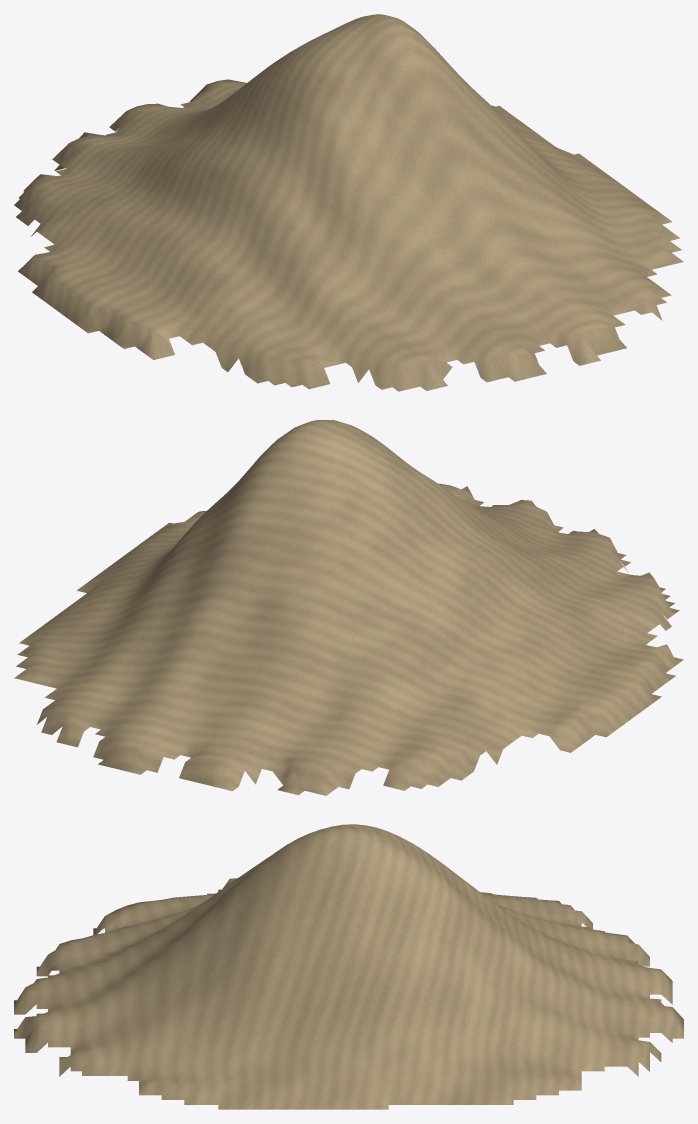
The model's file is border_dune_c_v5_autumn.glb.
3 views of the same model, one above another, from view 1: azimuth 30°, elevation 25°; view 2: azimuth 150°, elevation 25°; view 3: azimuth 270°, elevation 25° (orthographic). The views are drawn at different scales.
Parts seen in each view (by area): view 1: border_dune_c; view 2: border_dune_c; view 3: border_dune_c.
Boxes of the visible parts, left/top/right/bottom form: border_dune_c: left=14, top=14, right=683, bottom=391; border_dune_c: left=14, top=420, right=683, bottom=795; border_dune_c: left=14, top=824, right=683, bottom=1109.
Bounding box in the file's own units: 0.8772 × 0.3301 × 1.04.
1 material, 1 textured.
